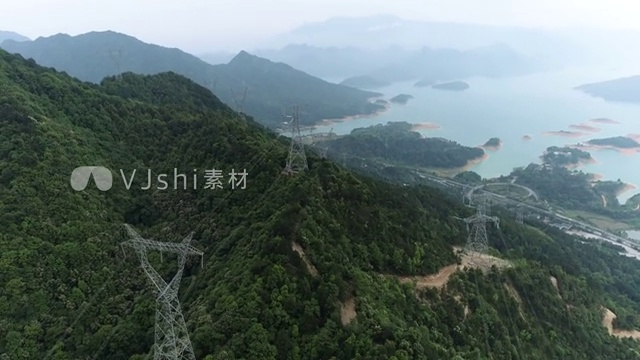tower_body: (120, 223, 213, 360), (458, 188, 499, 269), (278, 100, 313, 174)
tower_foot: (147, 322, 197, 360), (463, 246, 493, 264), (281, 154, 309, 172)
tower_head: (124, 227, 206, 300)
